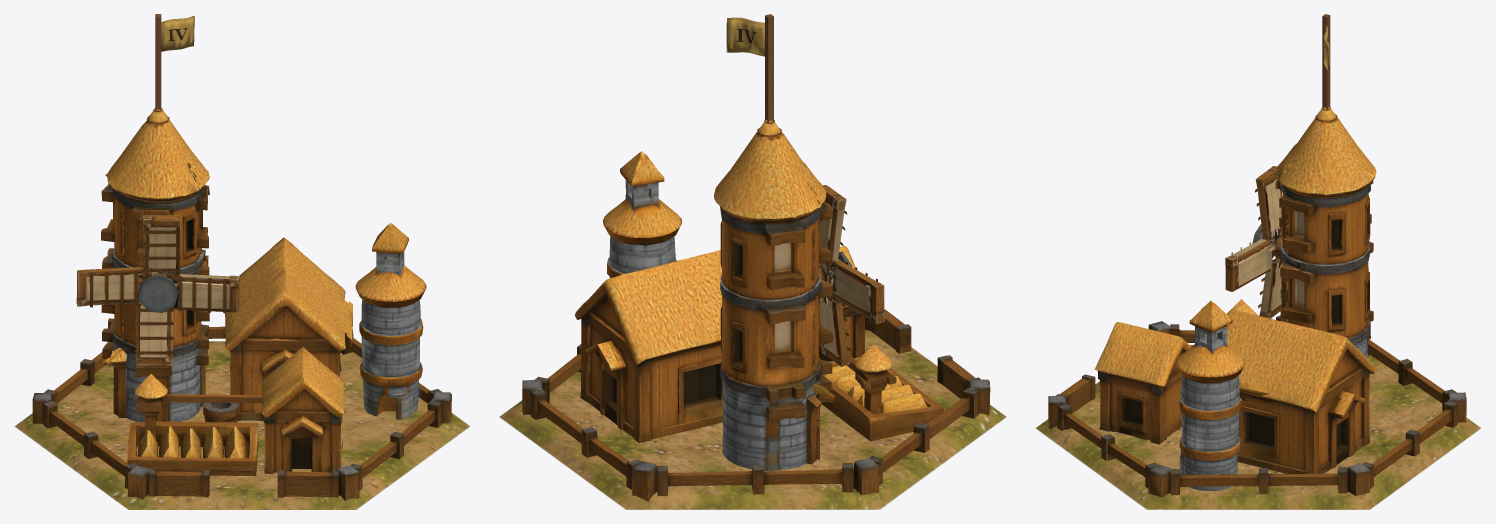
File: farm-4.glb
3 views of the same model, side by side, from view 1: azimuth 30°, elevation 25°; view 2: azimuth 150°, elevation 25°; view 3: azimuth 270°, elevation 25° (orthographic). The views are drawn at different scales.
Visible parts, largest first — view 1: architecture, ground, rotor, tier-banner; view 2: architecture, ground, rotor, tier-banner; view 3: architecture, ground, rotor.
Part boxes in pixels (x1=…): architecture: x1=32, y1=14, x2=451, y2=500; ground: x1=14, y1=341, x2=470, y2=509; rotor: x1=76, y1=215, x2=239, y2=365; tier-banner: x1=161, y1=16, x2=194, y2=51; architecture: x1=522, y1=14, x2=990, y2=501; ground: x1=499, y1=330, x2=1006, y2=509; rotor: x1=816, y1=185, x2=884, y2=366; tier-banner: x1=726, y1=17, x2=764, y2=56; architecture: x1=1048, y1=14, x2=1466, y2=497; ground: x1=1035, y1=345, x2=1481, y2=509; rotor: x1=1225, y1=166, x2=1284, y2=318.
Size of the model in its own units: 1.59 by 1.77 by 1.84.
3 materials, 3 textured.
